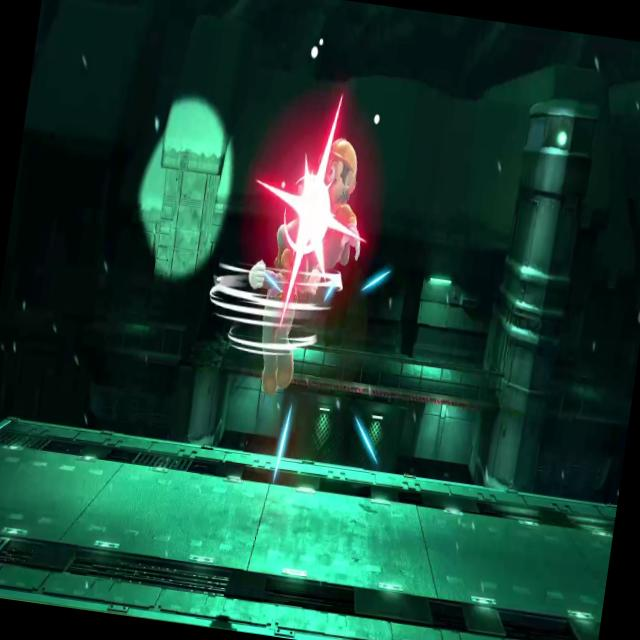Mario: (282, 122, 377, 281)
Mario-Down Air: (228, 208, 334, 408)
